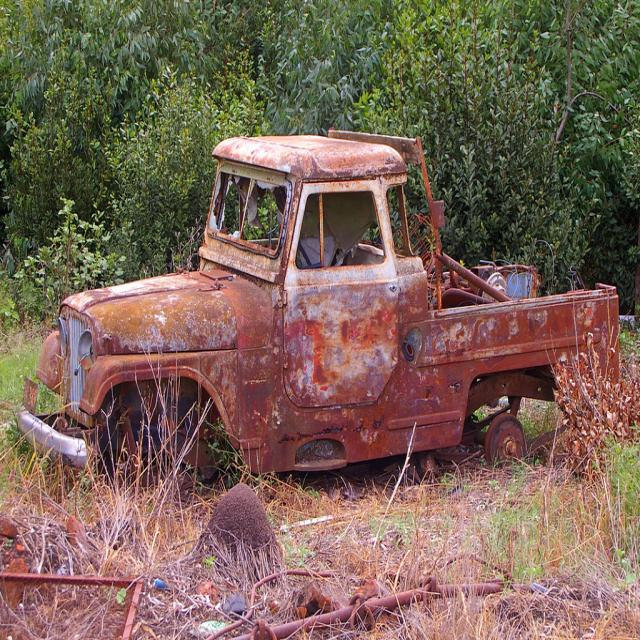other: (46, 141, 606, 529)
